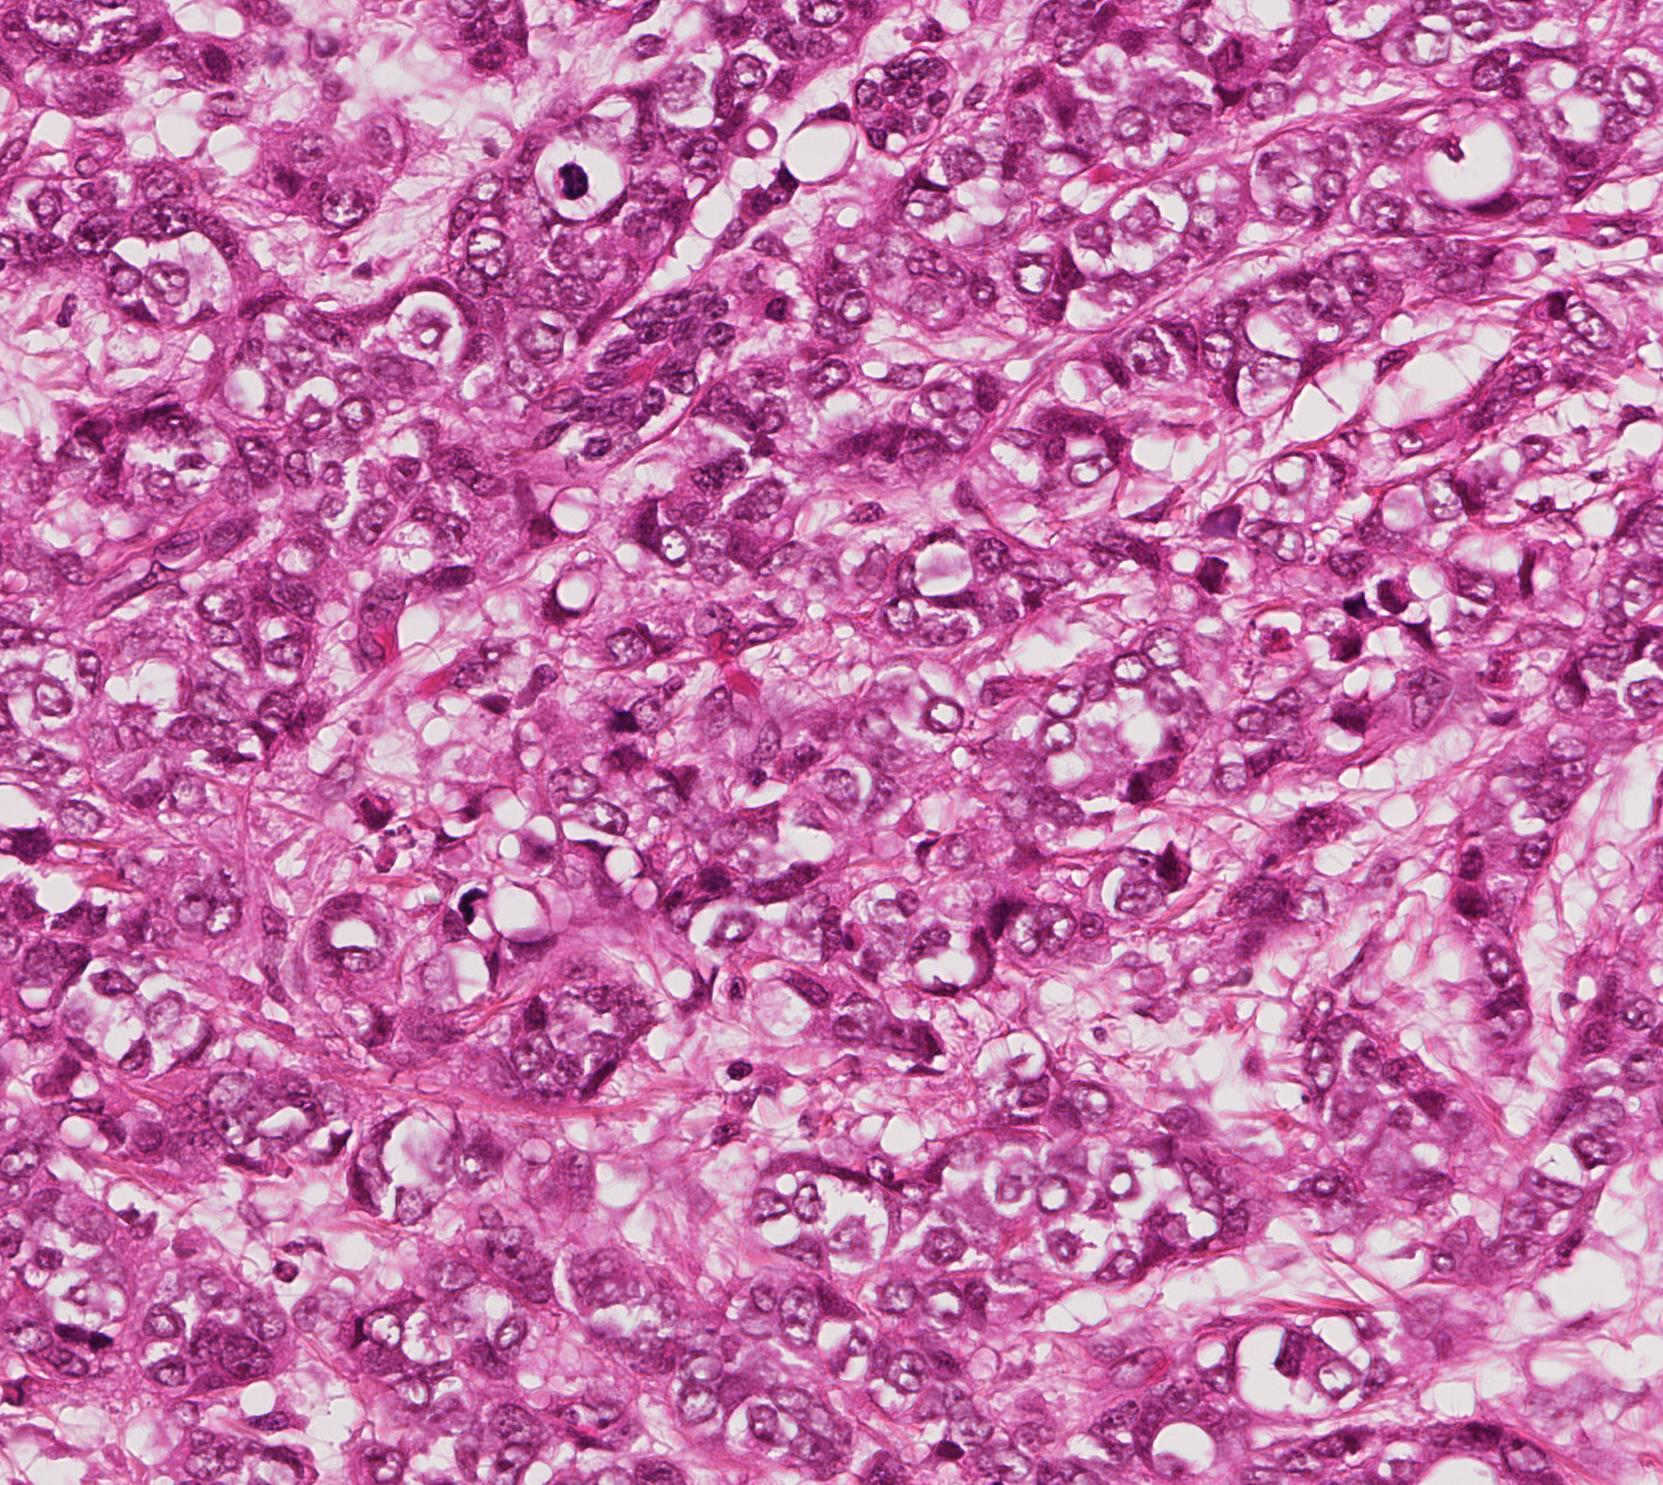mitosis: (543, 149, 604, 209)
